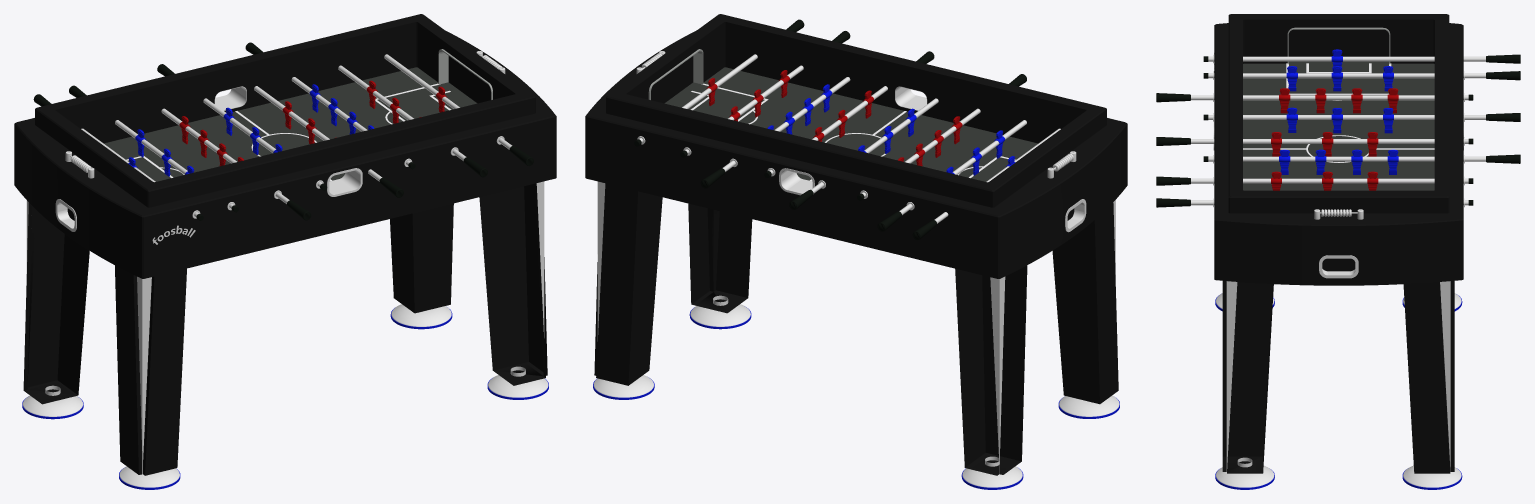
The model's file is foosball.glb.
3 views of the same model, side by side, from view 1: azimuth 30°, elevation 25°; view 2: azimuth 150°, elevation 25°; view 3: azimuth 270°, elevation 25° (orthographic). The views are drawn at different scales.
Parts seen in each view (by area): view 1: Object_10, Object_0; view 2: Object_10, Object_0; view 3: Object_10, Object_0.
Part boxes in pixels (x1,y1,x2,y2): Object_10: [14, 14, 556, 489]; Object_0: [22, 51, 548, 487]; Object_10: [585, 14, 1127, 489]; Object_0: [593, 51, 1119, 487]; Object_10: [1156, 14, 1520, 489]; Object_0: [1191, 52, 1485, 487].
Bounding box in the file's own units: 1.45 × 0.9294 × 1.08.
2 materials, 2 textured.
